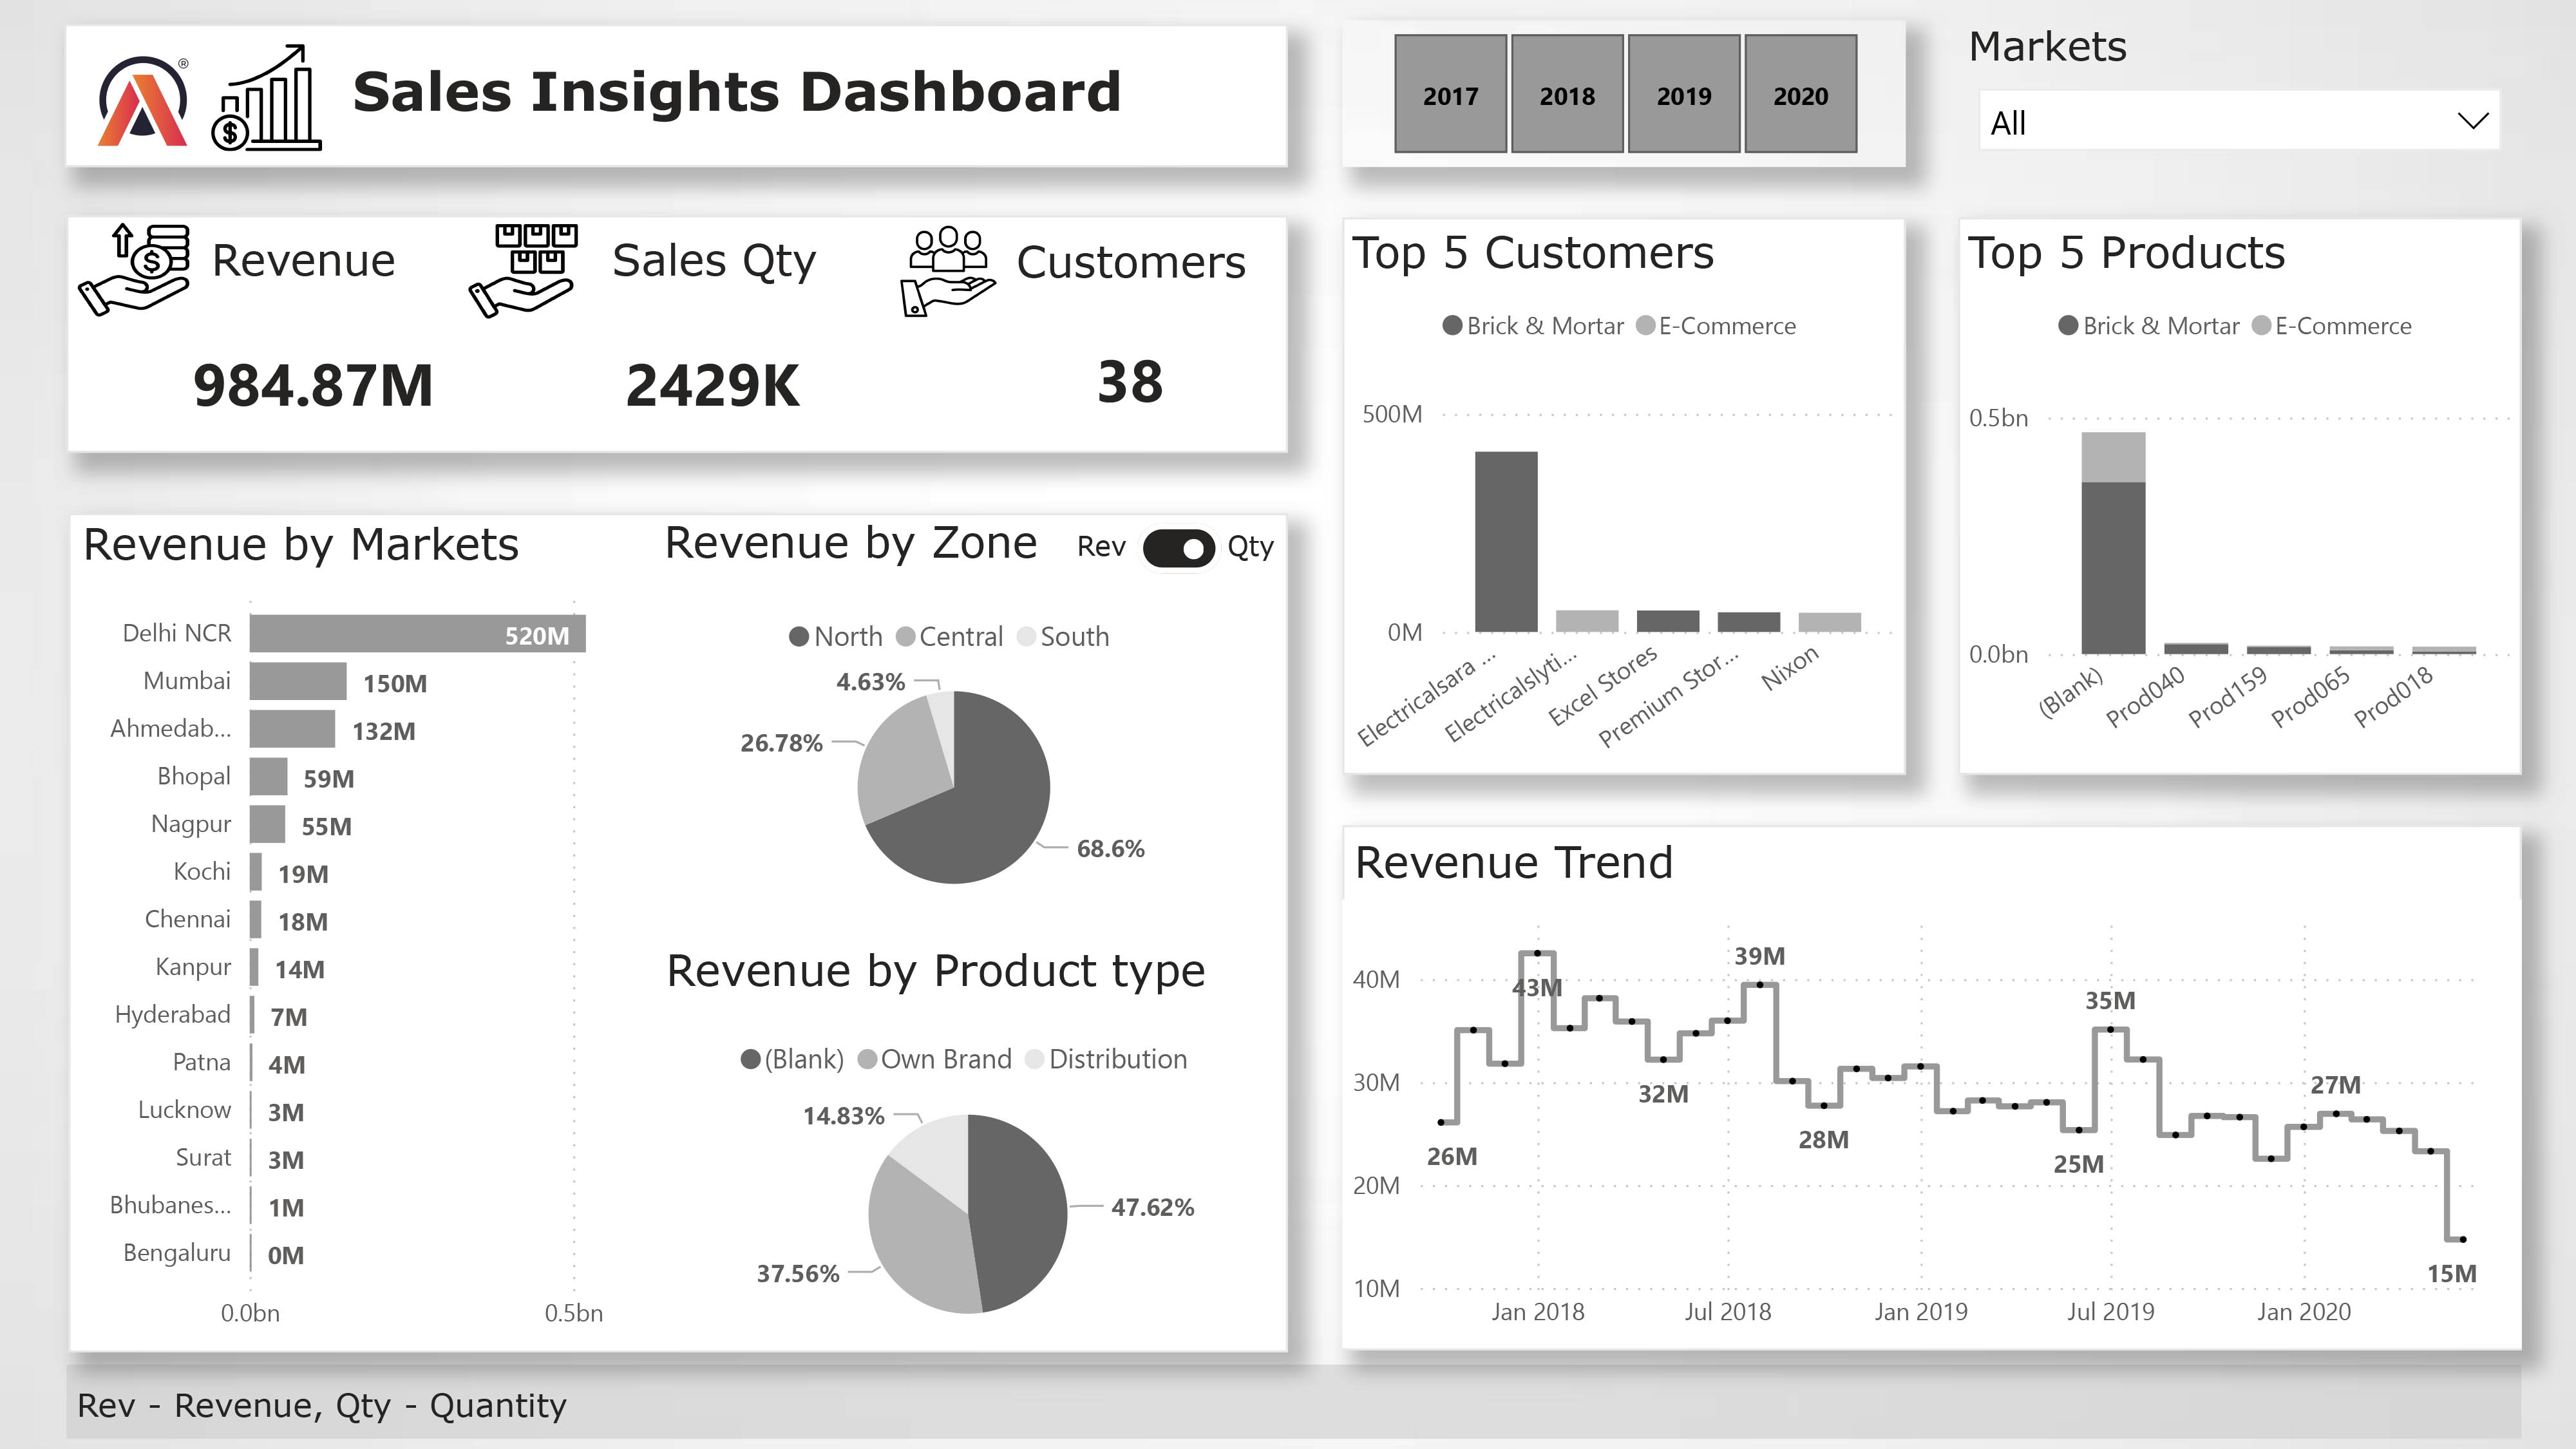

The dashboard page shown, as its layout file describes it:
{"tool":"powerbi","page":{"name":"Page 1","canvas":[1280,720],"ordinal":0},"visuals":[{"type":"shape","box":[33.3,678.3,1220,36.7],"z":0},{"type":"shape","box":[33.6,255.5,606.4,416.4],"z":1000},{"type":"shape","box":[973.3,108.3,280,276.7],"z":2000},{"type":"shape","box":[666.7,108.3,280,276.7],"z":3000},{"type":"shape","box":[33.3,106.7,606.7,118.3],"z":4000},{"type":"shape","box":[31.7,11.7,608.3,71.7],"z":5000},{"type":"card","title":"Revenue","fields":{"Values":["Report Measures.Revenue"]},"box":[85.4,161.7,141.7,58.3],"z":6000},{"type":"textbox","box":[170,23.3,406.7,50],"z":7000},{"type":"image","box":[100,16.7,65,63.3],"z":8000},{"type":"textbox","box":[99.6,111.1,113.3,48.3],"z":9000},{"type":"textbox","box":[299.4,111.4,121.7,48.3],"z":10000},{"type":"card","title":"Revenue","fields":{"Values":["Report Measures.Total Qty"]},"box":[300,161.7,108.3,58.3],"z":11000},{"type":"image","box":[33.3,105,66.7,58.3],"z":12000},{"type":"image","box":[226.7,105,66.7,60],"z":13000},{"type":"barChart","fields":{"Category":["sales markets.markets_name"],"Y":["Report Measures.Total Qty"]},"box":[31.8,255.5,289.1,415.5],"z":15000},{"type":"shape","box":[667.1,410,585.7,261.4],"z":16000},{"type":"lineChart","fields":{"Y":["Report Measures.Revenue"],"Category":["sales date.cy_date"]},"box":[667.1,447.1,585.7,222.9],"z":17000},{"type":"textbox","box":[500,111.7,136.7,48.3],"z":18000},{"type":"image","box":[440,105,63.3,60],"z":19000},{"type":"card","title":"Revenue","fields":{"Values":["Report Measures.Customers"]},"box":[515,160,93.3,58.3],"z":20000},{"type":"textbox","box":[668.3,410,291.7,48.3],"z":21000},{"type":"columnChart","fields":{"Y":["Report Measures.Revenue"],"Category":["sales customers.custmer_name"],"Series":["sales customers.customer_type"]},"box":[666.7,141.7,280,243.3],"z":22000},{"type":"columnChart","fields":{"Y":["Report Measures.Revenue"],"Category":["sales products.product_code"],"Series":["sales customers.customer_type"]},"box":[973.3,141.7,280,243.3],"z":23000},{"type":"textbox","box":[666.7,106.7,280,48.3],"z":24000},{"type":"textbox","box":[973.3,106.7,280,48.3],"z":25000},{"type":"slicer","fields":{"Values":["sales date.year"]},"box":[666.7,10,280,73.3],"z":26000},{"type":"slicer","title":"Markets","fields":{"Values":["sales markets.markets_name"]},"box":[973.3,10,280,73.3],"z":27000},{"type":"image","box":[43.3,20,56.7,60],"z":28000},{"type":"bookmarkNavigator","box":[565,260,42,25],"z":29000},{"type":"textbox","box":[530,257,45,31],"z":32000},{"type":"textbox","box":[604.5,257.3,44.5,30.9],"z":33000},{"type":"textbox","box":[325,250,203,41],"z":34000},{"type":"pieChart","fields":{"Category":["sales markets.zone"],"Y":["Report Measures.Total Qty"]},"box":[321,296,306,162],"z":35000},{"type":"pieChart","fields":{"Category":["sales products.product_type"],"Y":["Report Measures.Total Qty"]},"box":[320,505.6,320,167.8],"z":38000},{"type":"textbox","box":[325.6,464.4,302.2,41.1],"z":39000},{"type":"textbox","box":[33.3,683.3,266.7,36.7],"z":40000}]}

Visuals, with their boxes in screenshot pixels (x1, y1, x2, y2), scaled from the page's 1280x720 canvas onto the 2576x1449 screenshot:
shape: locate(67, 1365, 2523, 1439)
shape: locate(68, 514, 1288, 1352)
shape: locate(1959, 218, 2523, 775)
shape: locate(1341, 218, 1905, 775)
shape: locate(67, 214, 1288, 453)
shape: locate(64, 24, 1288, 168)
"Revenue" card: locate(172, 325, 457, 443)
textbox: locate(342, 47, 1160, 147)
image: locate(201, 33, 332, 161)
textbox: locate(200, 223, 428, 321)
textbox: locate(603, 224, 848, 321)
"Revenue" card: locate(604, 325, 822, 443)
image: locate(67, 211, 201, 328)
image: locate(456, 211, 591, 332)
barChart - sales markets.markets_name x Report Measures.Total Qty: locate(64, 514, 646, 1350)
shape: locate(1343, 825, 2521, 1351)
lineChart - Report Measures.Revenue x sales date.cy_date: locate(1343, 900, 2521, 1349)
textbox: locate(1006, 225, 1282, 322)
image: locate(885, 211, 1013, 332)
"Revenue" card: locate(1036, 322, 1224, 439)
textbox: locate(1345, 825, 1932, 922)
columnChart - Report Measures.Revenue x sales customers.custmer_name: locate(1341, 285, 1905, 775)
columnChart - Report Measures.Revenue x sales products.product_code: locate(1959, 285, 2523, 775)
textbox: locate(1341, 214, 1905, 312)
textbox: locate(1959, 214, 2523, 312)
slicer - sales date.year: locate(1341, 20, 1905, 167)
"Markets" slicer: locate(1959, 20, 2523, 167)
image: locate(87, 40, 201, 161)
bookmarkNavigator: locate(1137, 523, 1222, 574)
textbox: locate(1066, 517, 1157, 580)
textbox: locate(1217, 518, 1306, 580)
textbox: locate(654, 503, 1063, 585)
pieChart - sales markets.zone x Report Measures.Total Qty: locate(646, 596, 1262, 922)
pieChart - sales products.product_type x Report Measures.Total Qty: locate(644, 1018, 1288, 1355)
textbox: locate(656, 934, 1264, 1018)
textbox: locate(67, 1375, 604, 1448)
